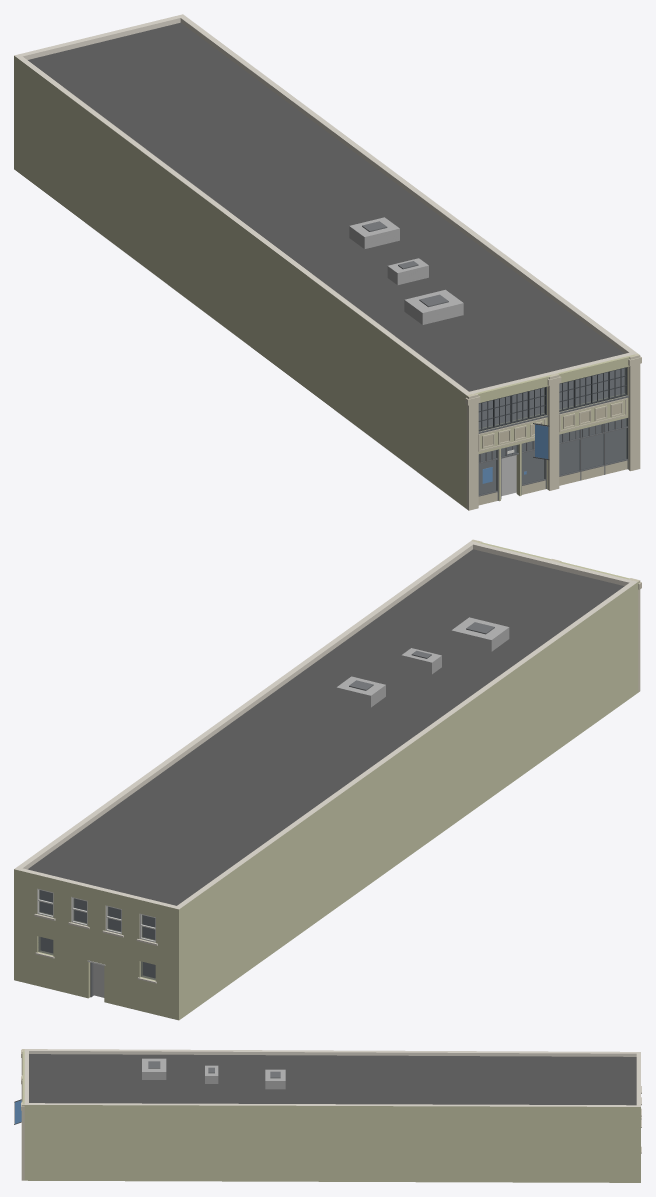
Rendered from exterior.glb.
The picture shows the model from 3 angles, top to bottom: view 1: azimuth 30°, elevation 25°; view 2: azimuth 150°, elevation 25°; view 3: azimuth 270°, elevation 25°; orthographic projection. The views are drawn at different scales.
Visible parts, largest first — view 1: roof, shell, relief-1, glazing, shadow-proxy, rooftop-units, storefront, frames; view 2: shell, roof, rooftop-units, shadow-proxy, glazing, frames, relief-1; view 3: shell, roof, rooftop-units, relief-1.
Boxes of the visible parts, x1,y1,x2,y2 form: roof: [28, 22, 624, 391]; shell: [14, 14, 637, 508]; relief-1: [465, 353, 641, 510]; glazing: [478, 368, 627, 494]; shadow-proxy: [479, 368, 625, 496]; rooftop-units: [349, 217, 463, 324]; storefront: [478, 418, 628, 505]; frames: [478, 367, 627, 431]; shell: [14, 541, 638, 1020]; roof: [27, 549, 624, 905]; rooftop-units: [336, 617, 509, 707]; shadow-proxy: [40, 890, 155, 997]; glazing: [38, 890, 155, 980]; frames: [37, 888, 155, 942]; relief-1: [471, 539, 641, 692]; shell: [24, 1049, 640, 1182]; roof: [29, 1054, 636, 1105]; rooftop-units: [142, 1058, 285, 1089]; relief-1: [21, 1049, 24, 1180].
Bounding box in the file's own units: 11.02 × 7.17 × 50.08.
